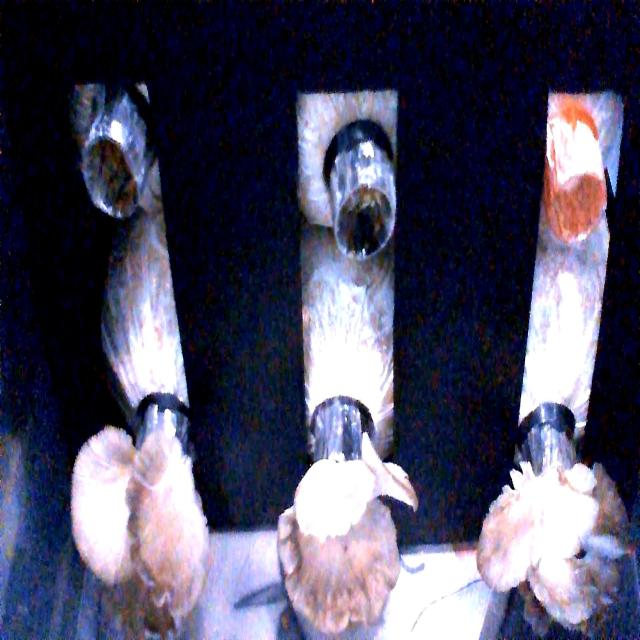big: (54, 384, 204, 637), (463, 431, 640, 639), (282, 437, 425, 640)
nfound: (302, 123, 414, 266), (69, 106, 156, 249), (540, 135, 620, 263)
